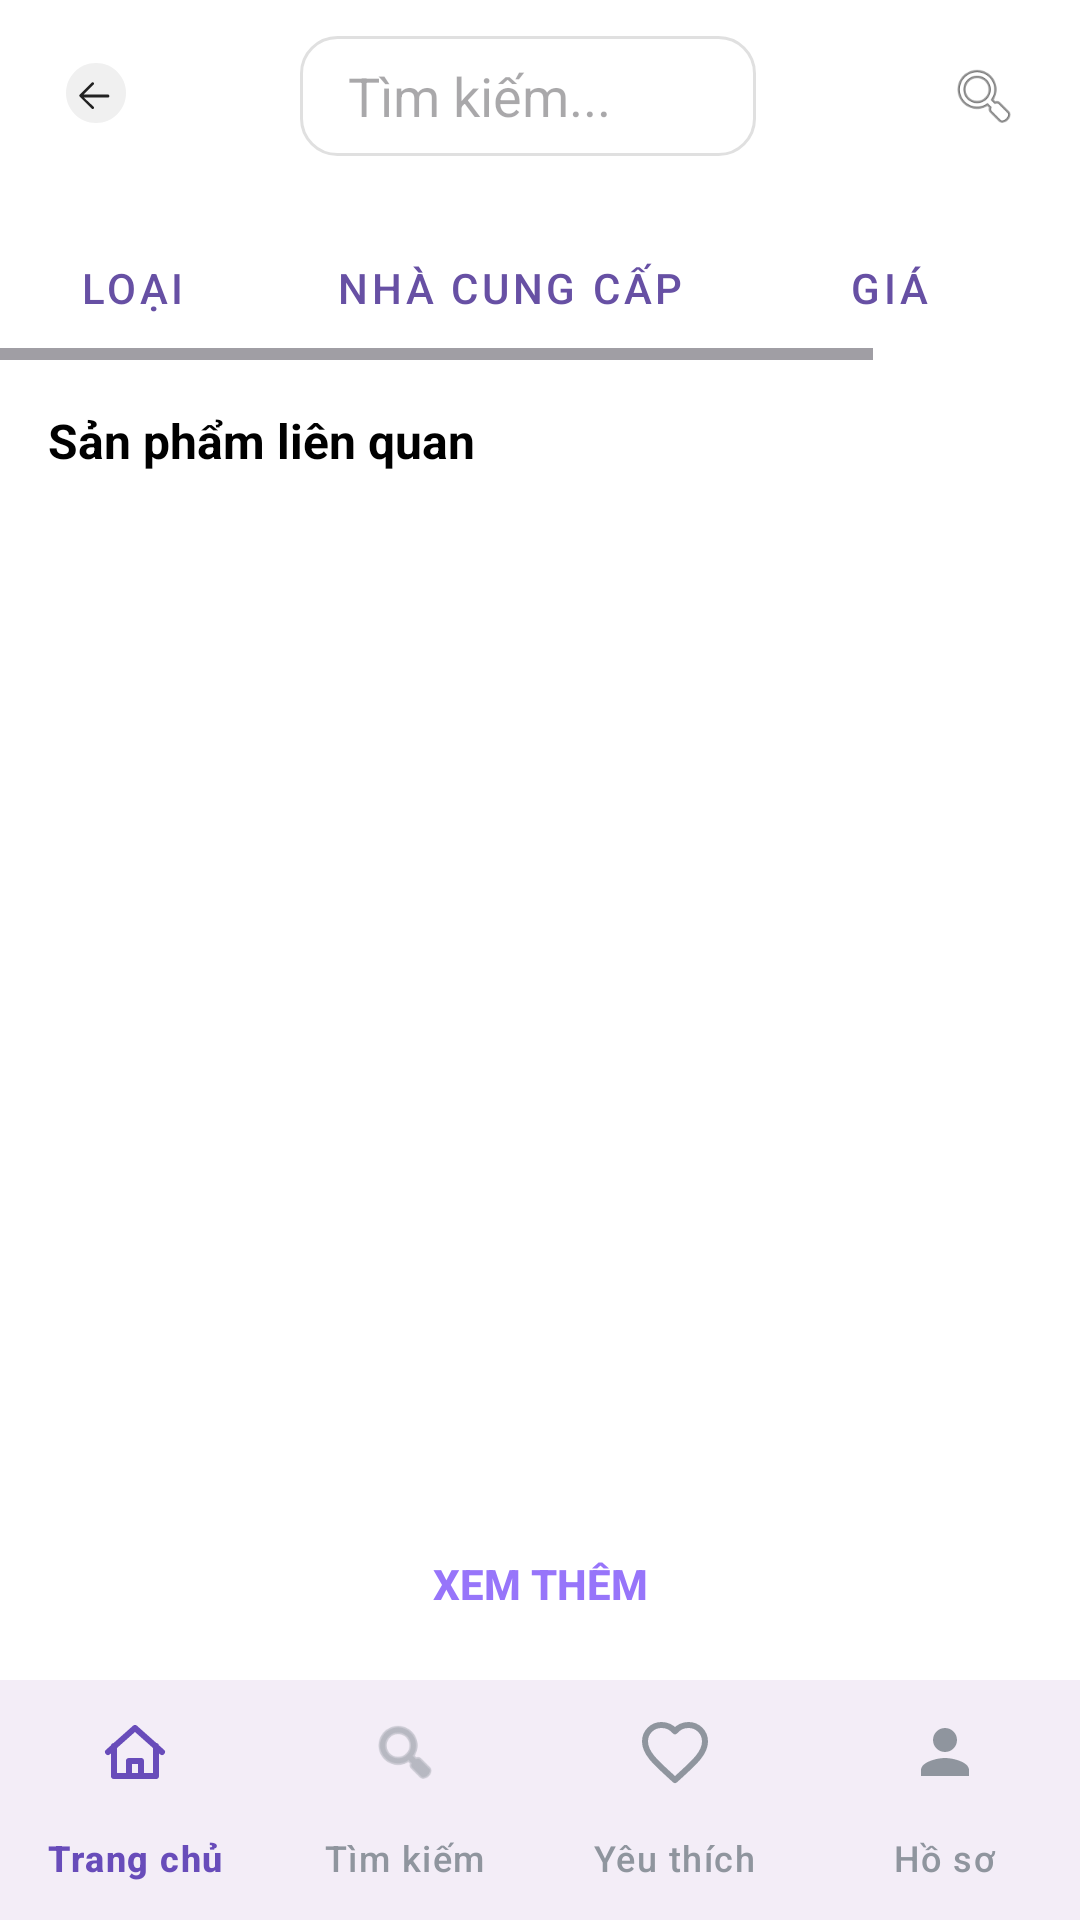

Icon click points for this 1080×1920 phone screenshot, format [x,y]:
back: [96,93]
search: [984,96]
